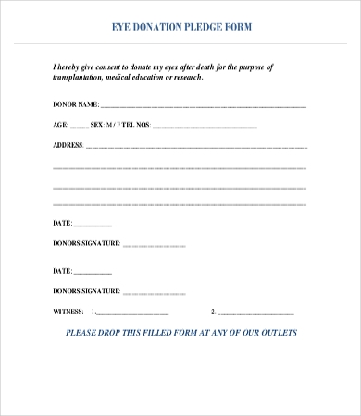textline: (48, 191, 312, 209), (49, 176, 312, 193), (51, 155, 311, 172), (84, 137, 310, 152), (99, 96, 309, 110), (151, 115, 260, 131), (215, 302, 295, 317), (122, 236, 189, 251), (94, 304, 171, 317), (121, 286, 190, 298), (71, 263, 114, 276), (73, 216, 113, 228), (67, 116, 91, 129)
